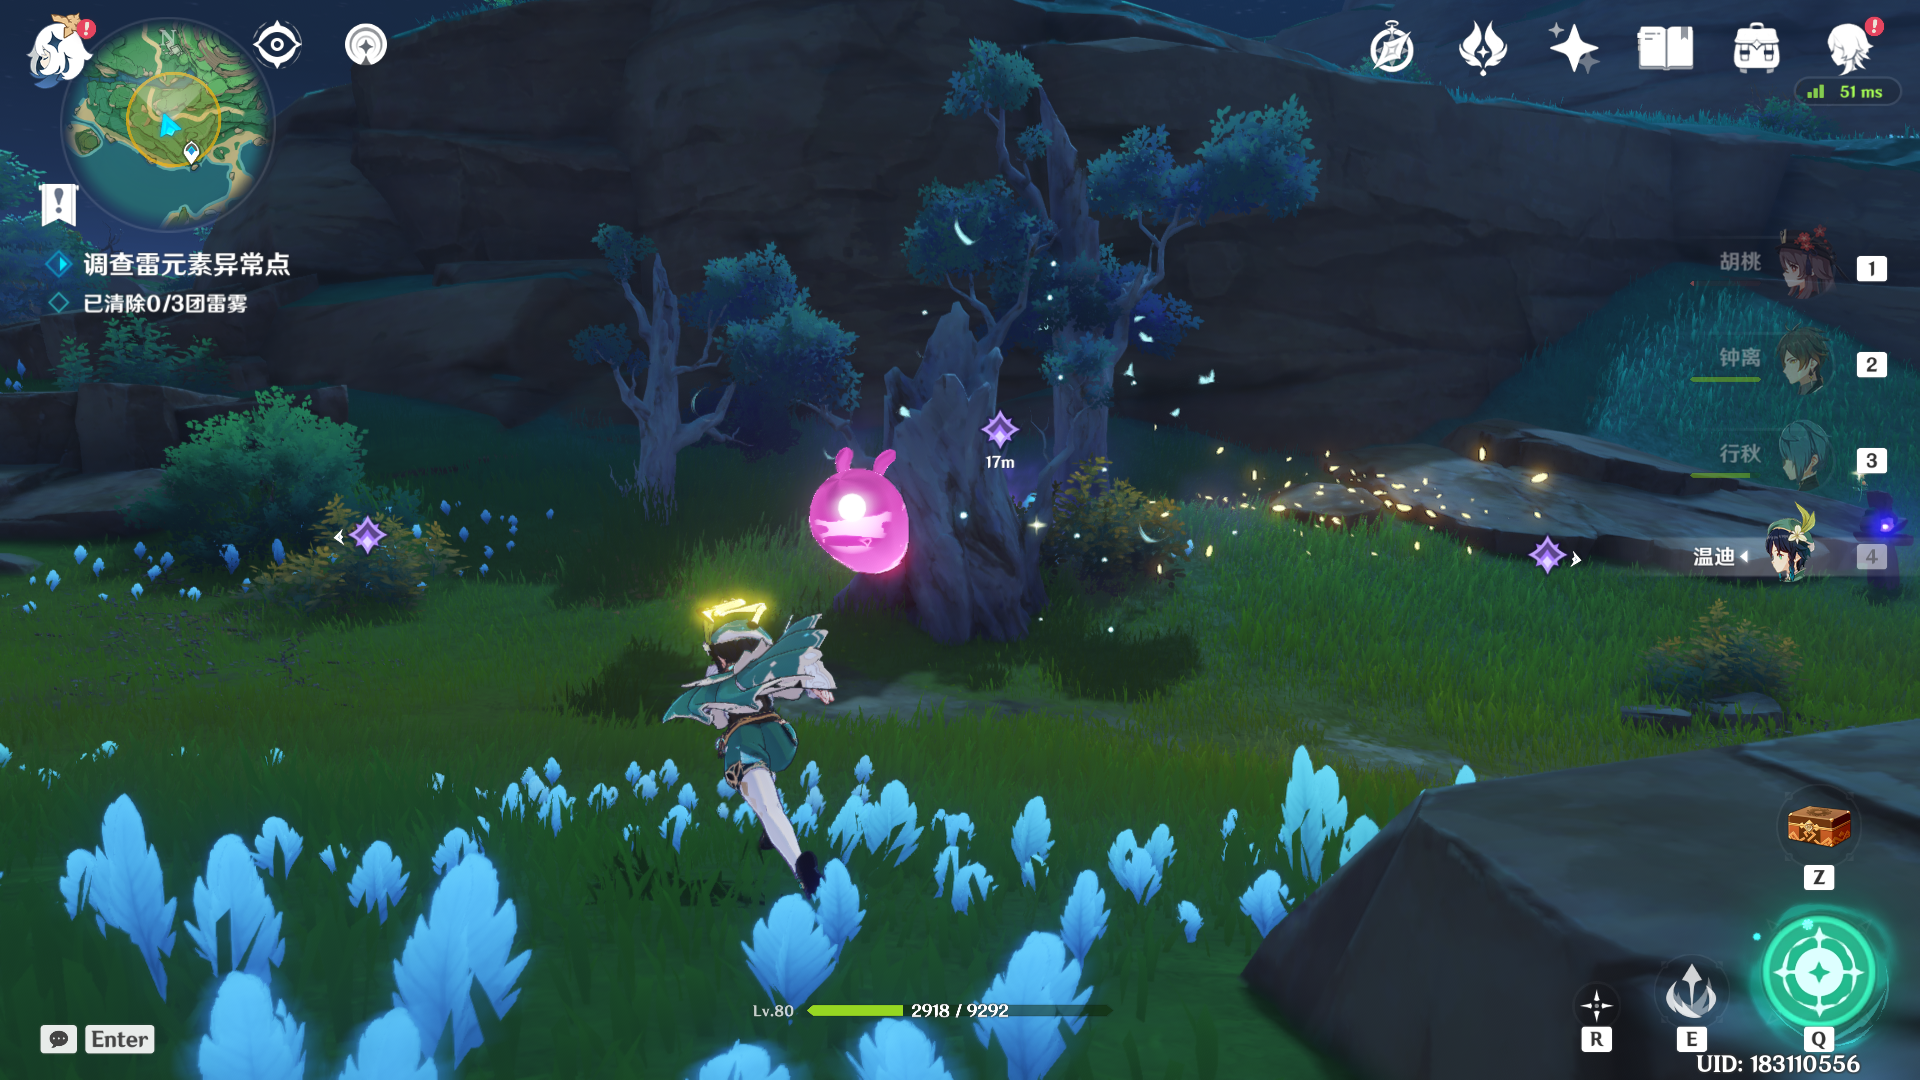character: (654, 563, 877, 914)
